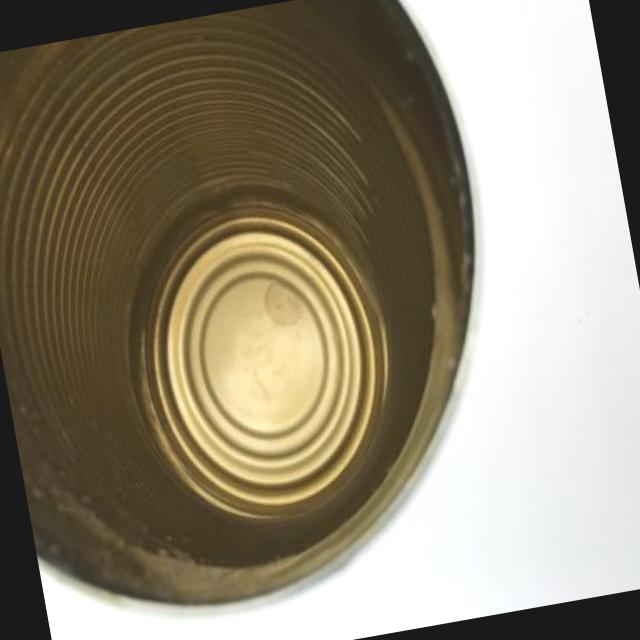kim_loai: (0, 0, 475, 605)
